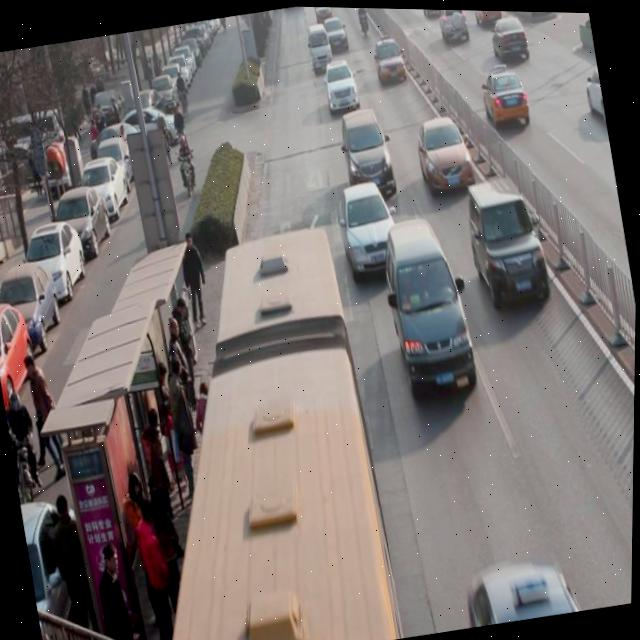car: (462, 171, 554, 305), (334, 176, 404, 275), (336, 102, 398, 200), (412, 111, 477, 194), (479, 59, 532, 127), (322, 56, 361, 113), (488, 9, 531, 60), (371, 34, 408, 84), (436, 8, 470, 40), (324, 14, 348, 53), (471, 8, 503, 26), (311, 5, 333, 25), (419, 7, 446, 16)
truck: (375, 212, 480, 392), (305, 22, 335, 72)
van: (95, 220, 405, 640)
